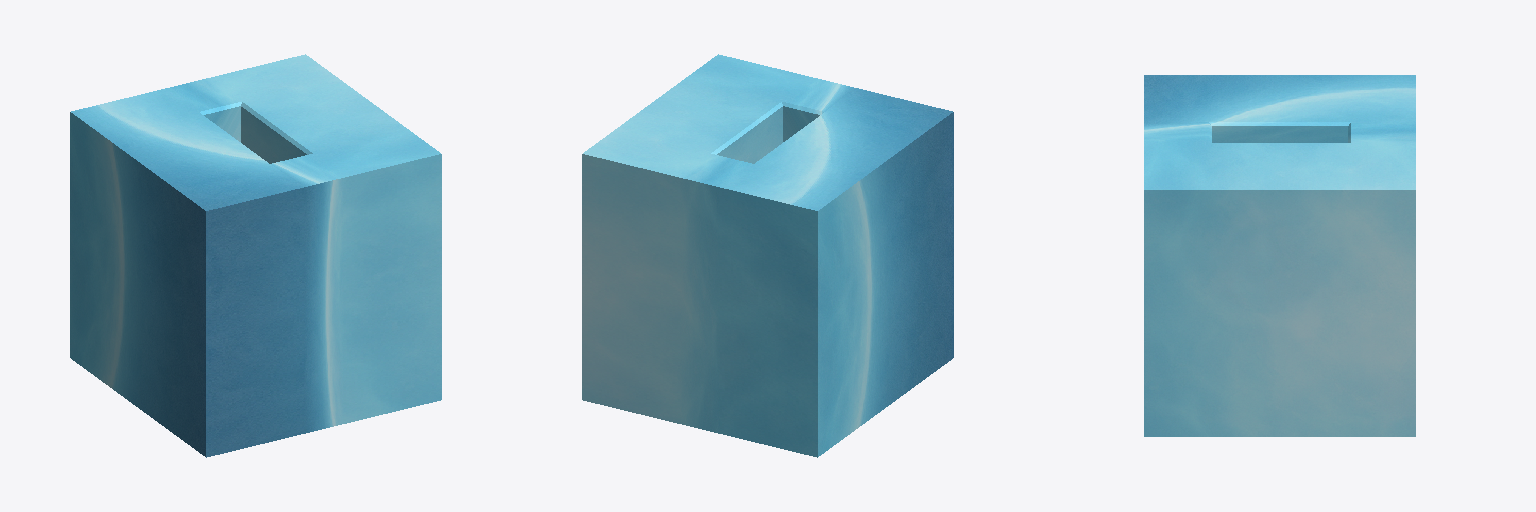
The picture shows the model from 3 angles: view 1: azimuth 30°, elevation 25°; view 2: azimuth 150°, elevation 25°; view 3: azimuth 270°, elevation 25°; orthographic projection.
Parts seen in each view (by area): view 1: rod_c; view 2: rod_c; view 3: rod_c.
Part boxes in pixels (x1,y1,x2,y2): rod_c: (70, 54, 441, 457); rod_c: (582, 54, 953, 457); rod_c: (1144, 75, 1415, 436).
Size of the model in its own units: 0.9703 by 0.9703 by 0.9703.
Materials: 1 (1 with a texture image).